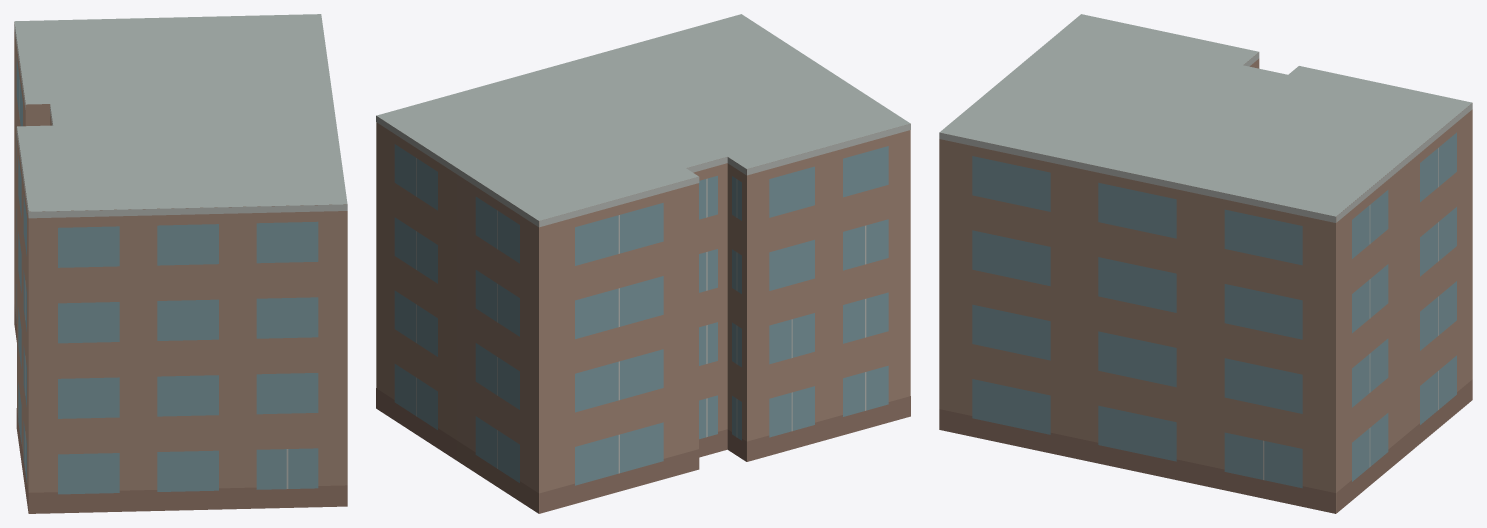
The model's file is survey-upis-32988799.glb.
The picture shows the model from 3 angles, left to right: view 1: azimuth 30°, elevation 25°; view 2: azimuth 150°, elevation 25°; view 3: azimuth 270°, elevation 25°; orthographic projection. The views are drawn at different scales.
Parts seen in each view (by area): view 1: survey-upis-32988799.tmp; view 2: survey-upis-32988799.tmp; view 3: survey-upis-32988799.tmp.
Part boxes in pixels (box(x1,y1,x2,y2)): survey-upis-32988799.tmp: box(14, 14, 347, 513); survey-upis-32988799.tmp: box(376, 14, 910, 513); survey-upis-32988799.tmp: box(939, 14, 1472, 513).
Size of the model in its own units: 16.38 by 11.2 by 18.22.
